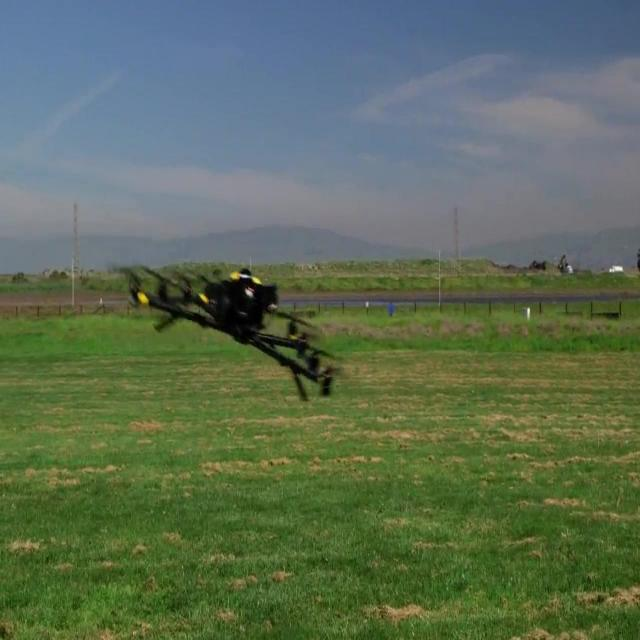UAV: (113, 266, 343, 402)
